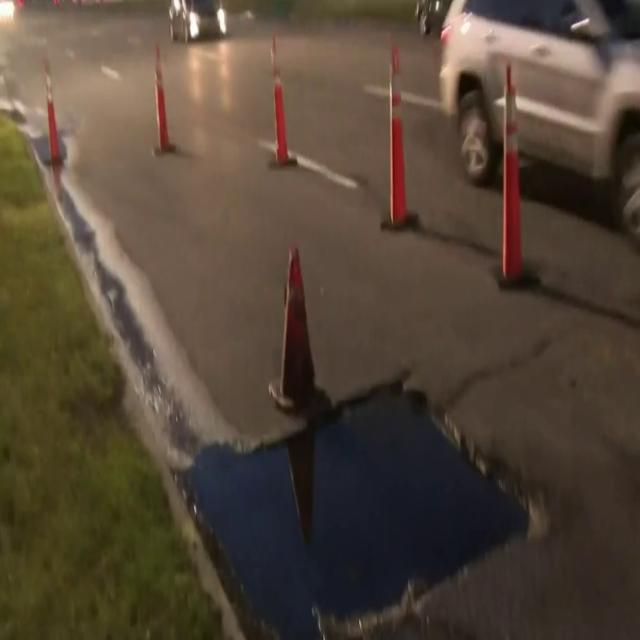Pothole: (180, 387, 528, 638)
